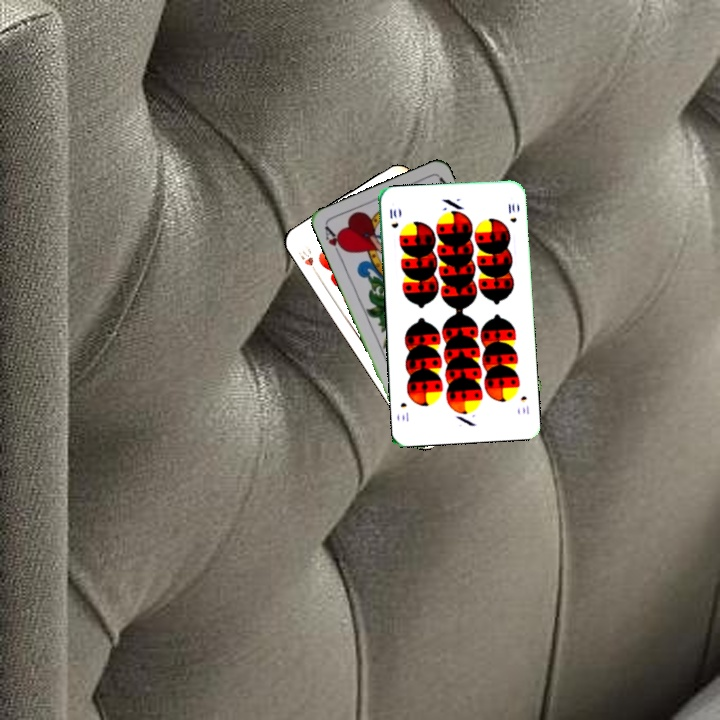H10: (293, 244, 321, 278)
HA: (321, 222, 349, 261)
S10: (386, 205, 401, 231), (517, 392, 532, 417)
